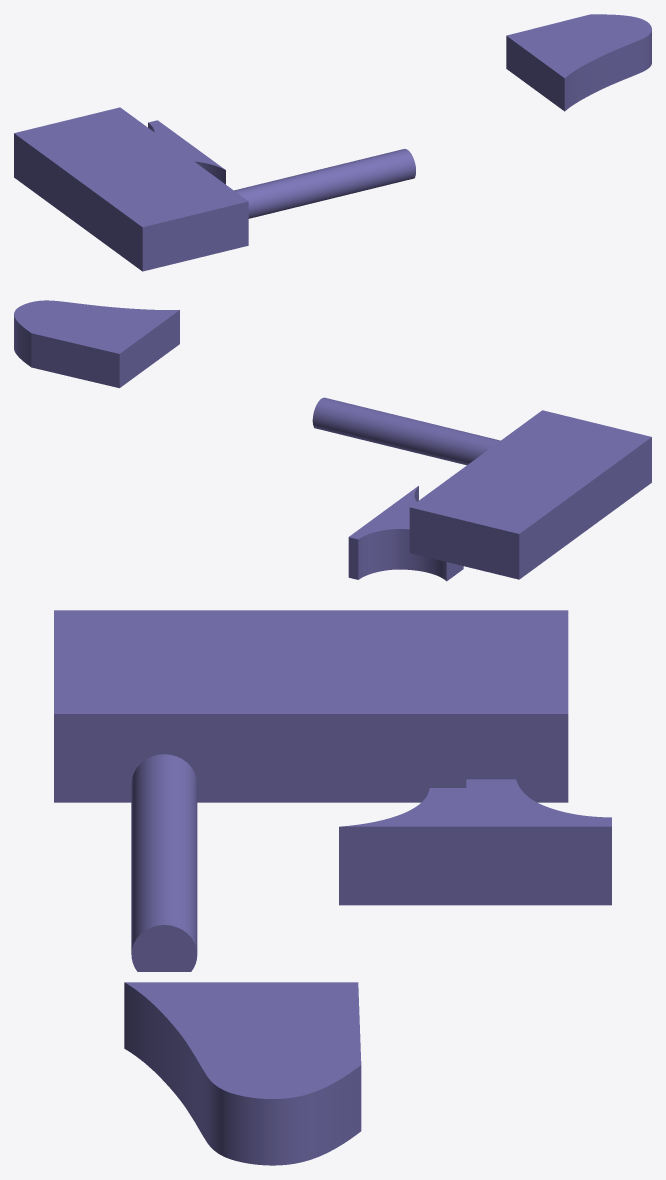
The model's file is frame_gallery_type_a.gltf.
3 views of the same model, one above another, from view 1: azimuth 30°, elevation 25°; view 2: azimuth 150°, elevation 25°; view 3: azimuth 270°, elevation 25° (orthographic). The views are drawn at different scales.
Bounding box in the file's own units: 75.88 × 13.05 × 32.76.
